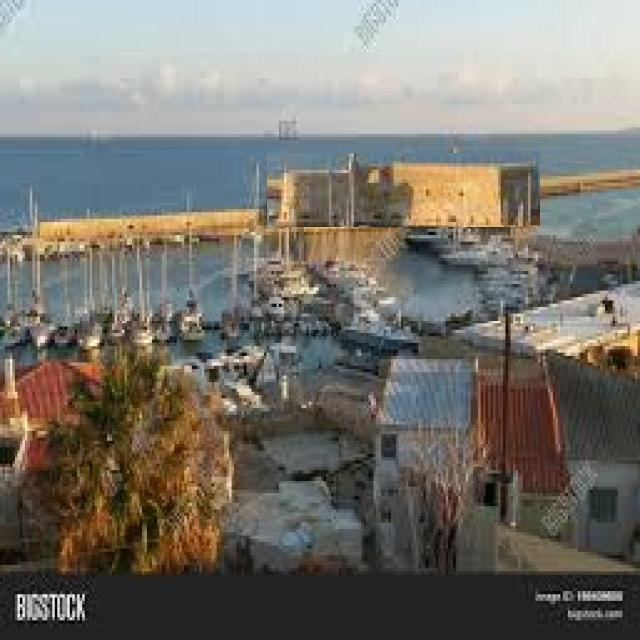Kules: (268, 154, 541, 228)
